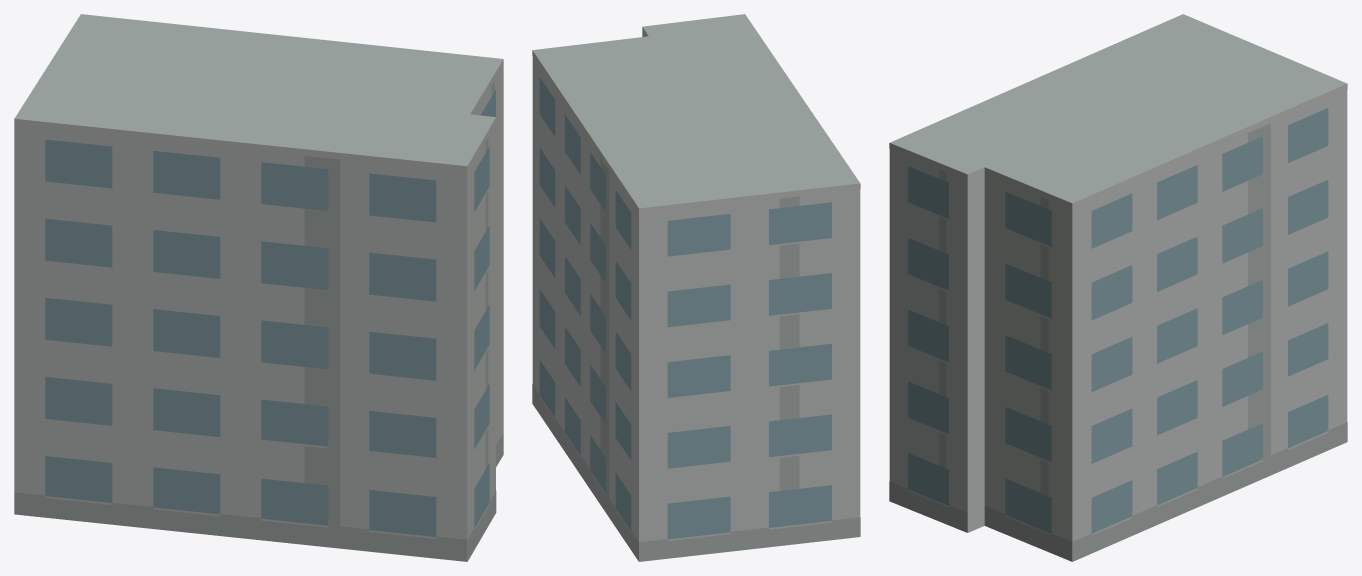
Rendered from survey-upis-32842749.glb.
3 renders of one model, left to right at view 1: azimuth 30°, elevation 25°; view 2: azimuth 150°, elevation 25°; view 3: azimuth 270°, elevation 25°, orthographic. The views are drawn at different scales.
Visible parts, largest first — view 1: survey-upis-32842749.tmp; view 2: survey-upis-32842749.tmp; view 3: survey-upis-32842749.tmp.
Boxes of the visible parts, bbox=[...] form: survey-upis-32842749.tmp: bbox=[14, 14, 503, 561]; survey-upis-32842749.tmp: bbox=[532, 14, 860, 561]; survey-upis-32842749.tmp: bbox=[889, 14, 1347, 561].
Size of the model in its own units: 16.09 by 14.2 by 16.44.
